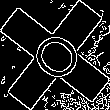O_SE: (21, 22, 89, 88)
